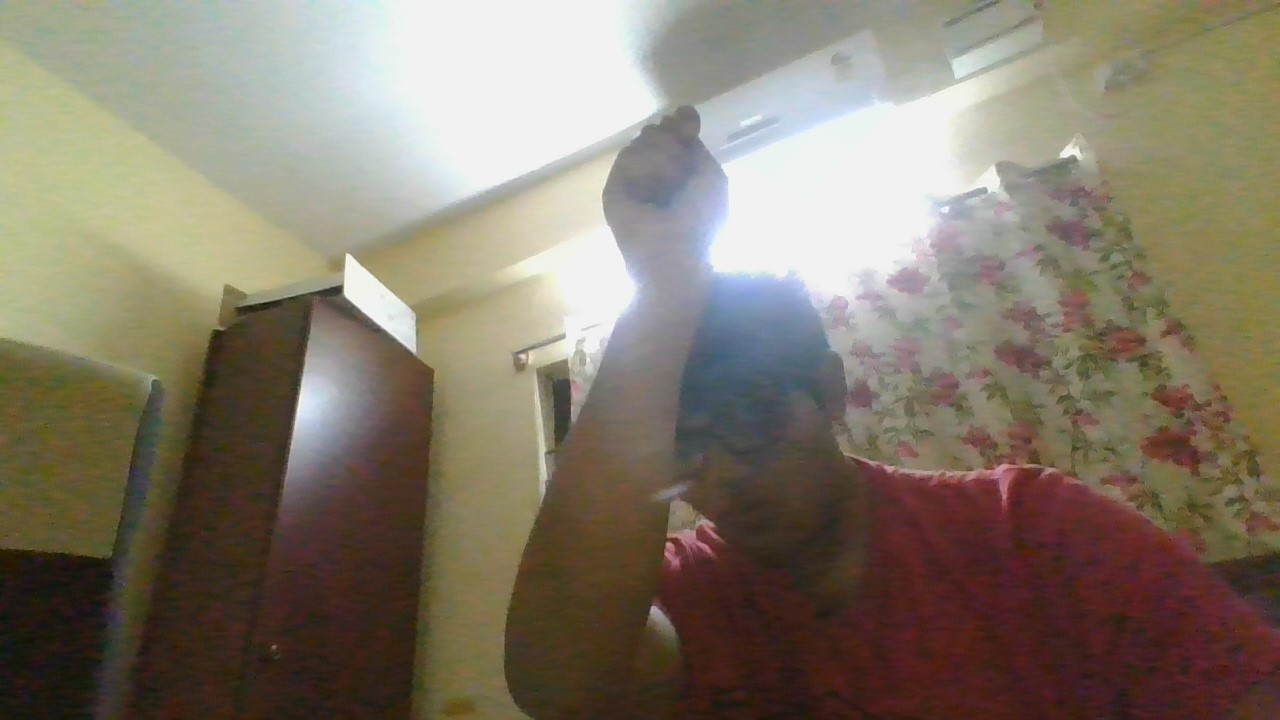t: (595, 102, 738, 300)
